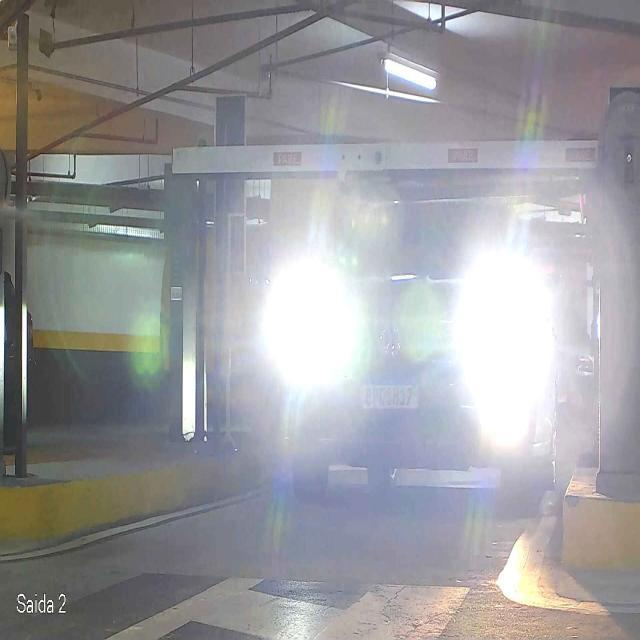mercosul_plate: (357, 378, 420, 410)
